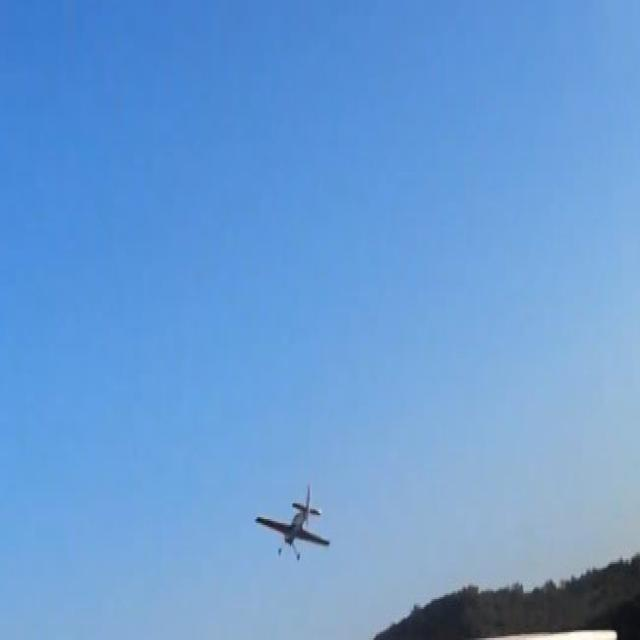iha: (286, 518, 298, 532)
